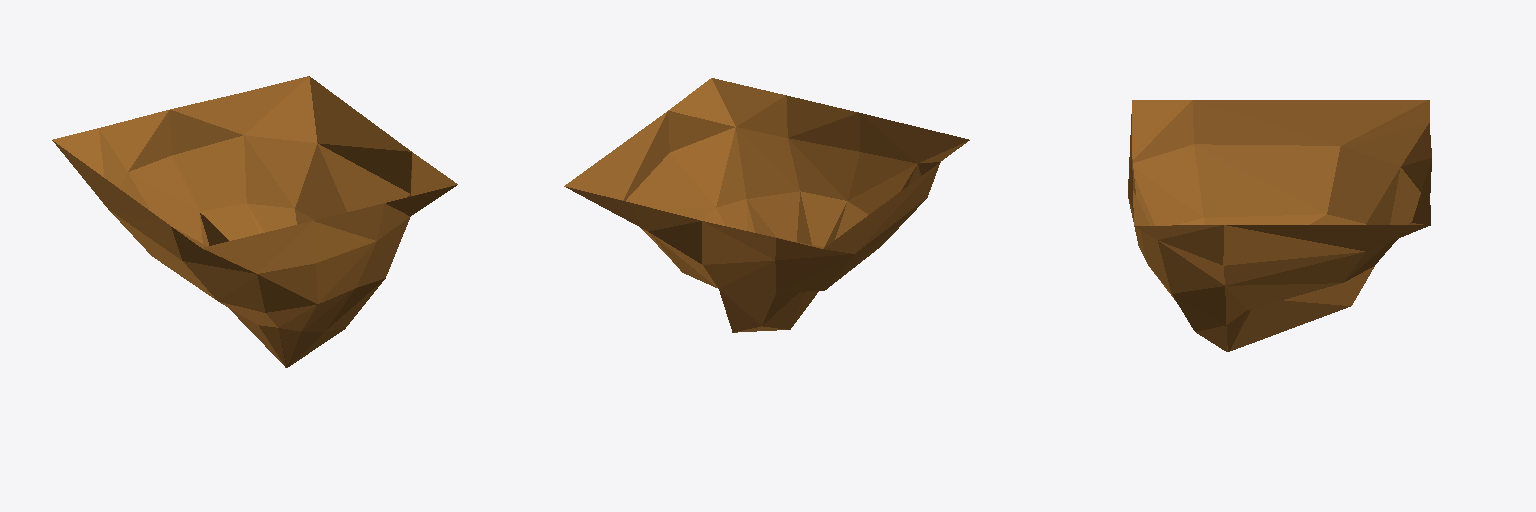
File: island.obj
3 renders of one model, left to right at view 1: azimuth 30°, elevation 25°; view 2: azimuth 150°, elevation 25°; view 3: azimuth 270°, elevation 25°, orthographic.
Visible parts, largest first — view 1: polySurface1 low_poly_mill:Mesh; view 2: polySurface1 low_poly_mill:Mesh; view 3: polySurface1 low_poly_mill:Mesh.
Part boxes in pixels (bbox=[...]): polySurface1 low_poly_mill:Mesh: bbox=[52, 76, 457, 367]; polySurface1 low_poly_mill:Mesh: bbox=[564, 78, 969, 332]; polySurface1 low_poly_mill:Mesh: bbox=[1128, 100, 1431, 351].
Size of the model in its own units: 23.95 by 16.54 by 24.39.